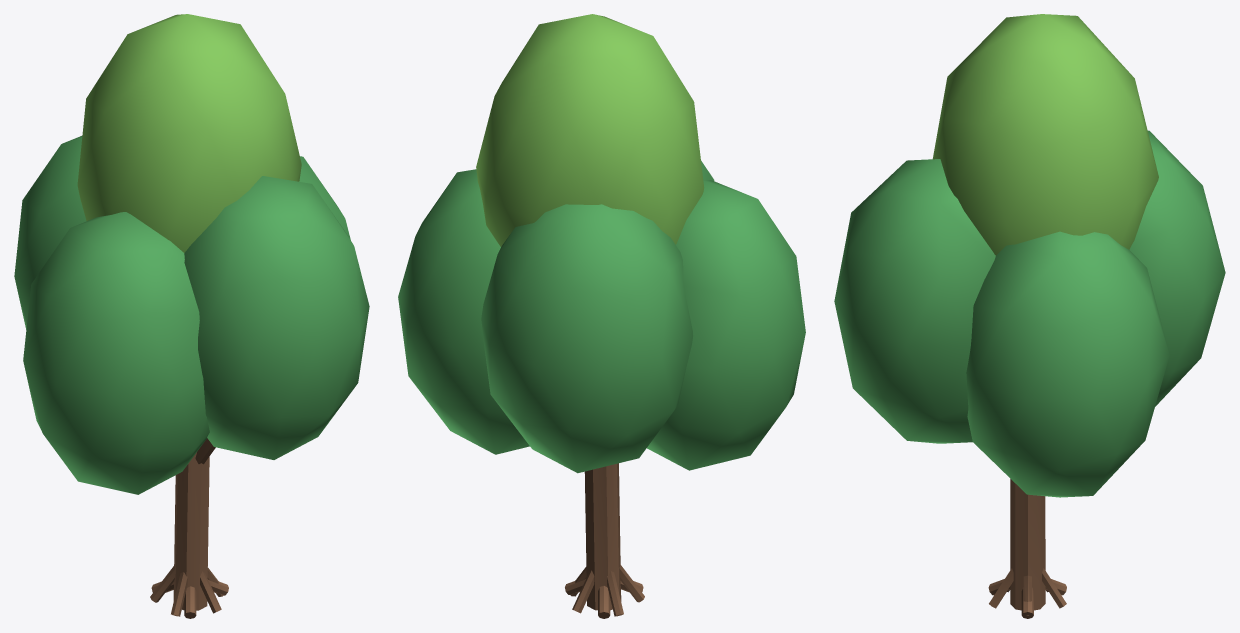
File: tree-maple.glb
3 renders of one model, left to right at view 1: azimuth 30°, elevation 25°; view 2: azimuth 150°, elevation 25°; view 3: azimuth 270°, elevation 25°, orthographic.
Visible parts, largest first — view 1: rounded crown, rounded crown.004, branch; view 2: rounded crown, rounded crown.004, branch; view 3: rounded crown, rounded crown.004, branch.
Boxes of the visible parts, x1=… form: rounded crown: x1=14, y1=136, x2=369, y2=494; rounded crown.004: x1=77, y1=14, x2=301, y2=252; branch: x1=150, y1=438, x2=228, y2=618; rounded crown: x1=398, y1=160, x2=805, y2=473; rounded crown.004: x1=476, y1=14, x2=704, y2=246; branch: x1=565, y1=463, x2=644, y2=618; rounded crown: x1=834, y1=130, x2=1225, y2=497; rounded crown.004: x1=932, y1=14, x2=1158, y2=255; branch: x1=988, y1=479, x2=1066, y2=618.
Bounding box in the file's own units: 2.23 × 3.7 × 2.22.
